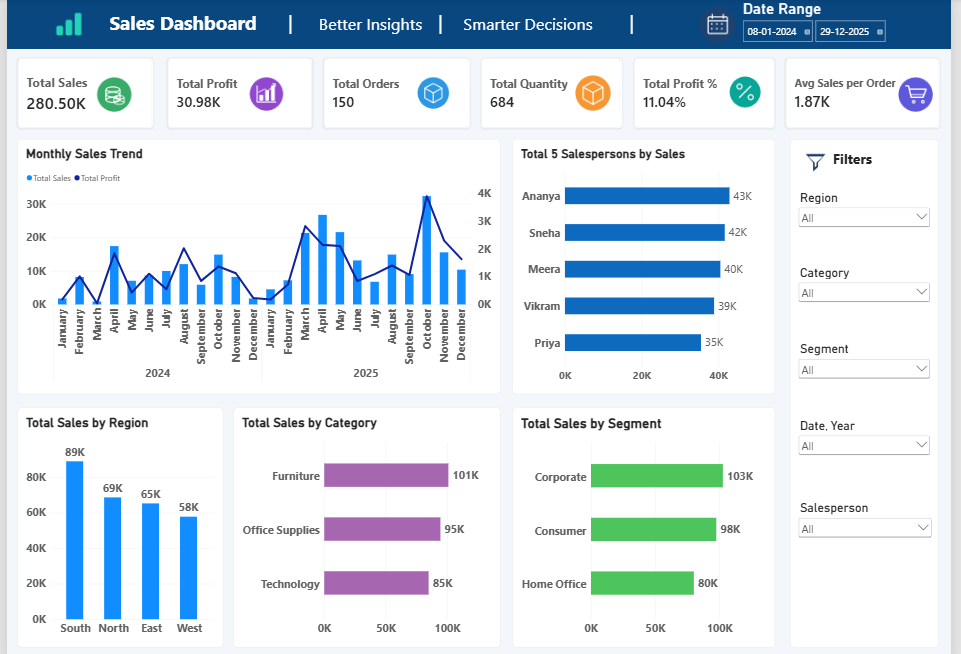

What the dashboard file says about the page in this screenshot:
{"tool":"powerbi","page":{"name":"Sales Dashboard","canvas":[1850,1300],"ordinal":8},"visuals":[{"type":"shape","box":[1533,276.1,290.7,995.6],"z":2000},{"type":"cardVisual","fields":{"Data":["Sales Dataset.Total Sales"]},"box":[22,117.5,265.7,138.3],"z":3000},{"type":"cardVisual","fields":{"Data":["Sales Dataset.Total Profit"]},"box":[314,118,284,138],"z":4000},{"type":"cardVisual","fields":{"Data":["Sales Dataset.Total Orders"]},"box":[619.7,117.5,287.4,138.3],"z":5000},{"type":"cardVisual","fields":{"Data":["Sales Dataset.Total Quantity"]},"box":[928,117.5,276.5,138.3],"z":6000},{"type":"cardVisual","fields":{"Data":["Sales Dataset.Total Profit %"]},"box":[1227.6,117.5,276.1,138],"z":7000},{"type":"lineClusteredColumnComboChart","title":"Monthly Sales Trend","fields":{"Category":["Sales Dataset.Order Date.Variation.Date Hierarchy.Year","Sales Dataset.Order Date.Variation.Date Hierarchy.Month"],"Y":["Sales Dataset.Total Sales"],"Y2":["Sales Dataset.Total Profit"]},"box":[20.6,276.1,945.7,499.3],"z":8000},{"type":"clusteredColumnChart","fields":{"Category":["Sales Dataset.Region"],"Y":["Sales Dataset.Total Sales"]},"box":[20.6,801.8,402.3,469.9],"z":9000},{"type":"clusteredBarChart","fields":{"Category":["Sales Dataset.Category"],"Y":["Sales Dataset.Total Sales"]},"box":[443.5,801.8,522.8,469.9],"z":10000},{"type":"clusteredBarChart","fields":{"Category":["Sales Dataset.Segment"],"Y":["Sales Dataset.Total Sales"]},"box":[989.7,801.8,513.9,469.9],"z":11000},{"type":"slicer","fields":{"Values":["Sales Dataset.Region"]},"box":[1543.6,375.9,267.3,94],"z":12000},{"type":"slicer","fields":{"Values":["Sales Dataset.Order Date.Variation.Date Hierarchy.Year","Sales Dataset.Order Date.Variation.Date Hierarchy.Quarter","Sales Dataset.Order Date.Variation.Date Hierarchy.Month","Sales Dataset.Order Date.Variation.Date Hierarchy.Day"]},"box":[1543.6,821.6,267.3,108.7],"z":13000},{"type":"slicer","fields":{"Values":["Sales Dataset.Category"]},"box":[1543.6,523.5,267.3,94],"z":14000},{"type":"clusteredBarChart","title":"Total 5 Salespersons by Sales","fields":{"Category":["Sales Dataset.Salesperson"],"Y":["Sales Dataset.Total Sales"]},"box":[989.7,276.1,513.9,499.3],"z":15000},{"type":"cardVisual","fields":{"Data":["Sales Dataset.Avg Sales per Order"]},"box":[1524.2,117.5,302.5,138],"z":17000},{"type":"shape","box":[0,0,1850.2,99.9],"z":18000},{"type":"textbox","box":[150,4,390,97.5],"z":19000},{"type":"textbox","box":[1544.8,296.6,220.3,52.9],"z":20000},{"type":"slicer","fields":{"Values":["Sales Dataset.Segment"]},"box":[1543.6,671.1,267.3,96.9],"z":21000},{"type":"slicer","fields":{"Values":["Sales Dataset.Salesperson"]},"box":[1543.6,983.8,270.2,102.8],"z":22000},{"type":"image","box":[66,22,134,58],"z":25003},{"type":"image","box":[150,152,120,72],"z":25004},{"type":"image","box":[442,152,128,70],"z":25005},{"type":"image","box":[1110,148,74,78],"z":25006},{"type":"image","box":[784,152,100,66],"z":25007},{"type":"image","box":[1734,152,92,72],"z":25008},{"type":"image","box":[1330.6,13.9,122.2,75],"z":25011},{"type":"slicer","fields":{"Values":["Sales Dataset.Order Date"]},"box":[1433.2,2.9,328.9,240.8],"z":25012},{"type":"textbox","box":[499.3,23.5,831.1,88.1],"z":25013},{"type":"image","box":[1412.6,146.8,64.6,73.4],"z":25014},{"type":"image","box":[1544.8,296.6,76.4,52.9],"z":25015}]}

Visuals, with their boxes on the page's 1850x1300 design canvas (x1, y1, x2, y2). These are canvas units, not pixel positions in the 961x654 screenshot, which may show the page scaled, cropped or inside an application window:
shape: (1533,276,1824,1272)
cardVisual - Sales Dataset.Total Sales: (22,118,288,256)
cardVisual - Sales Dataset.Total Profit: (314,118,598,256)
cardVisual - Sales Dataset.Total Orders: (620,118,907,256)
cardVisual - Sales Dataset.Total Quantity: (928,118,1204,256)
cardVisual - Sales Dataset.Total Profit %: (1228,118,1504,256)
"Monthly Sales Trend" lineClusteredColumnComboChart: (21,276,966,775)
clusteredColumnChart - Sales Dataset.Region x Sales Dataset.Total Sales: (21,802,423,1272)
clusteredBarChart - Sales Dataset.Category x Sales Dataset.Total Sales: (444,802,966,1272)
clusteredBarChart - Sales Dataset.Segment x Sales Dataset.Total Sales: (990,802,1504,1272)
slicer - Sales Dataset.Region: (1544,376,1811,470)
slicer - Sales Dataset.Order Date.Variation.Date Hierarchy.Year x Sales Dataset.Order Date.Variation.Date Hierarchy.Quarter: (1544,822,1811,930)
slicer - Sales Dataset.Category: (1544,524,1811,618)
"Total 5 Salespersons by Sales" clusteredBarChart: (990,276,1504,775)
cardVisual - Sales Dataset.Avg Sales per Order: (1524,118,1827,256)
shape: (0,0,1850,100)
textbox: (150,4,540,102)
textbox: (1545,297,1765,350)
slicer - Sales Dataset.Segment: (1544,671,1811,768)
slicer - Sales Dataset.Salesperson: (1544,984,1814,1087)
image: (66,22,200,80)
image: (150,152,270,224)
image: (442,152,570,222)
image: (1110,148,1184,226)
image: (784,152,884,218)
image: (1734,152,1826,224)
image: (1331,14,1453,89)
slicer - Sales Dataset.Order Date: (1433,3,1762,244)
textbox: (499,24,1330,112)
image: (1413,147,1477,220)
image: (1545,297,1621,350)
